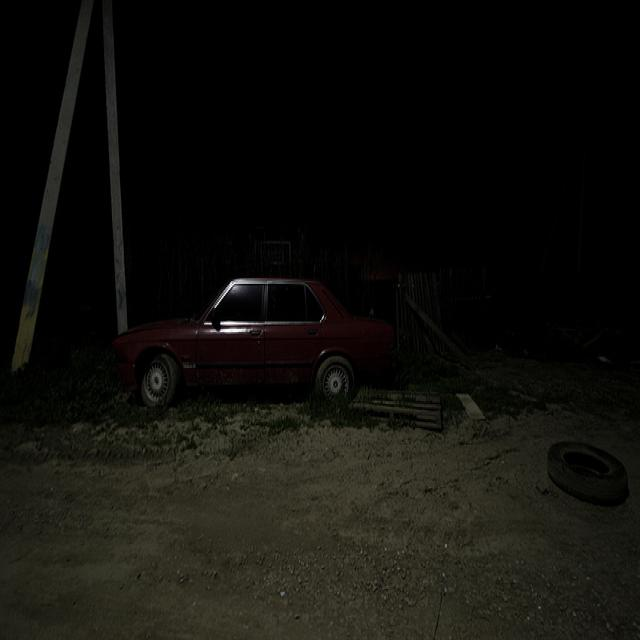Car: (110, 267, 395, 410)
